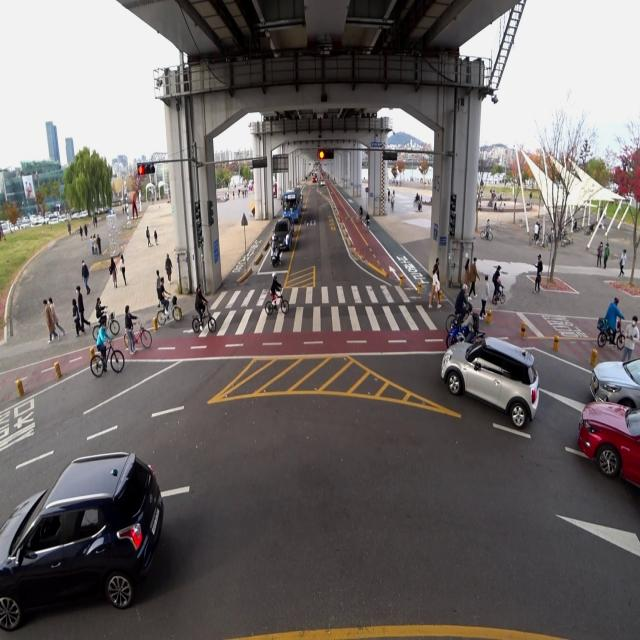Bus: (280, 180, 302, 228)
Car: (0, 426, 168, 639), (436, 324, 540, 430), (569, 391, 640, 492), (581, 346, 640, 412), (273, 218, 290, 252), (282, 211, 294, 241)
Motorcycle: (441, 302, 491, 352), (269, 231, 281, 267)
